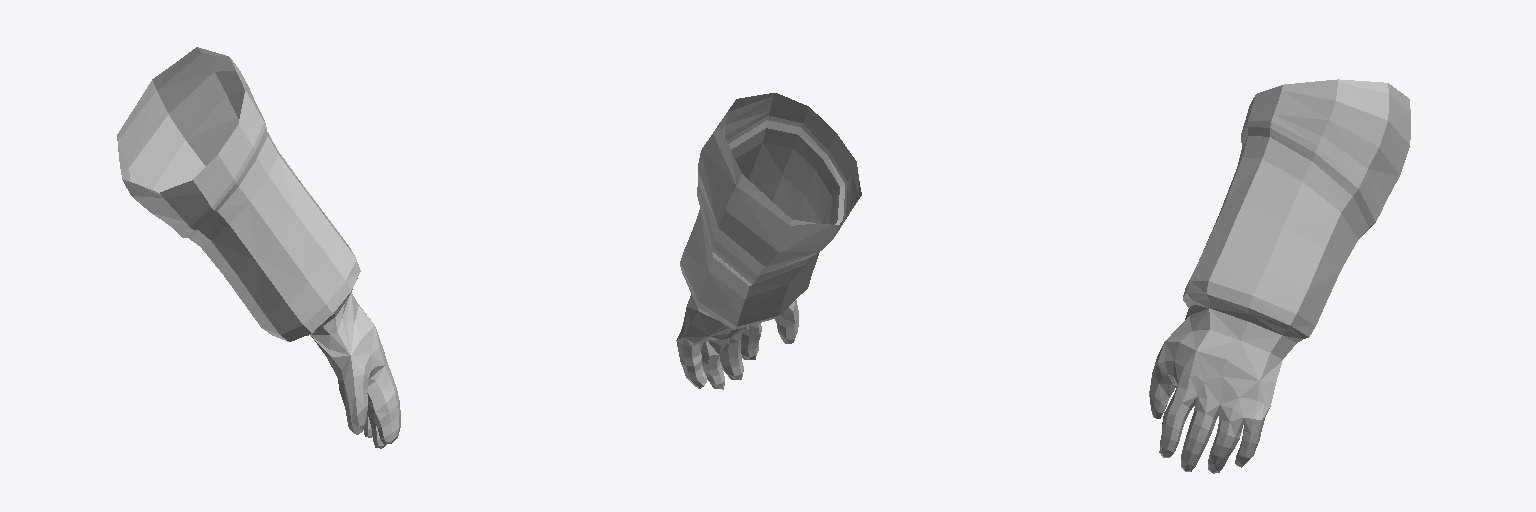
The model's file is Rhand.obj.
3 views of the same model, side by side, from view 1: azimuth 30°, elevation 25°; view 2: azimuth 150°, elevation 25°; view 3: azimuth 270°, elevation 25° (orthographic).
Parts seen in each view (by area): view 1: polySurface21 polySurface10 polySurface3 Mesh; view 2: polySurface21 polySurface10 polySurface3 Mesh; view 3: polySurface21 polySurface10 polySurface3 Mesh.
Part boxes in pixels (x1,y1,x2,y2): polySurface21 polySurface10 polySurface3 Mesh: (117,47,400,448); polySurface21 polySurface10 polySurface3 Mesh: (676,93,861,389); polySurface21 polySurface10 polySurface3 Mesh: (1149,79,1410,473).
Size of the model in its own units: 0.6165 by 1.02 by 0.6822.